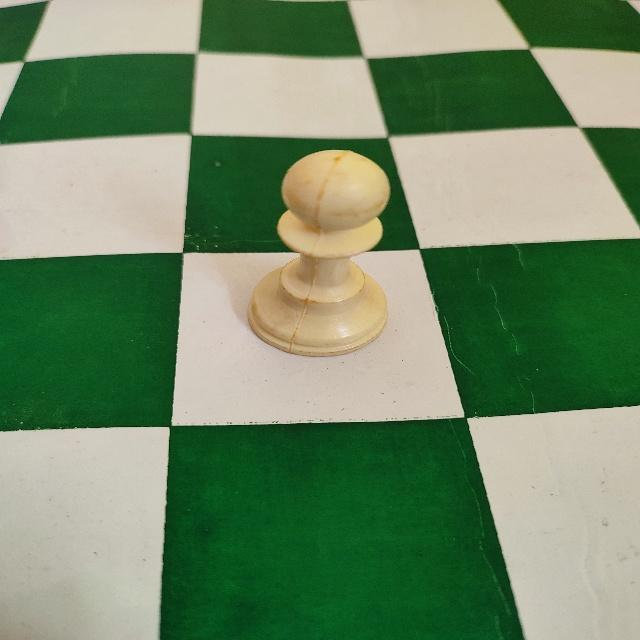Pawn: (243, 144, 402, 362)
